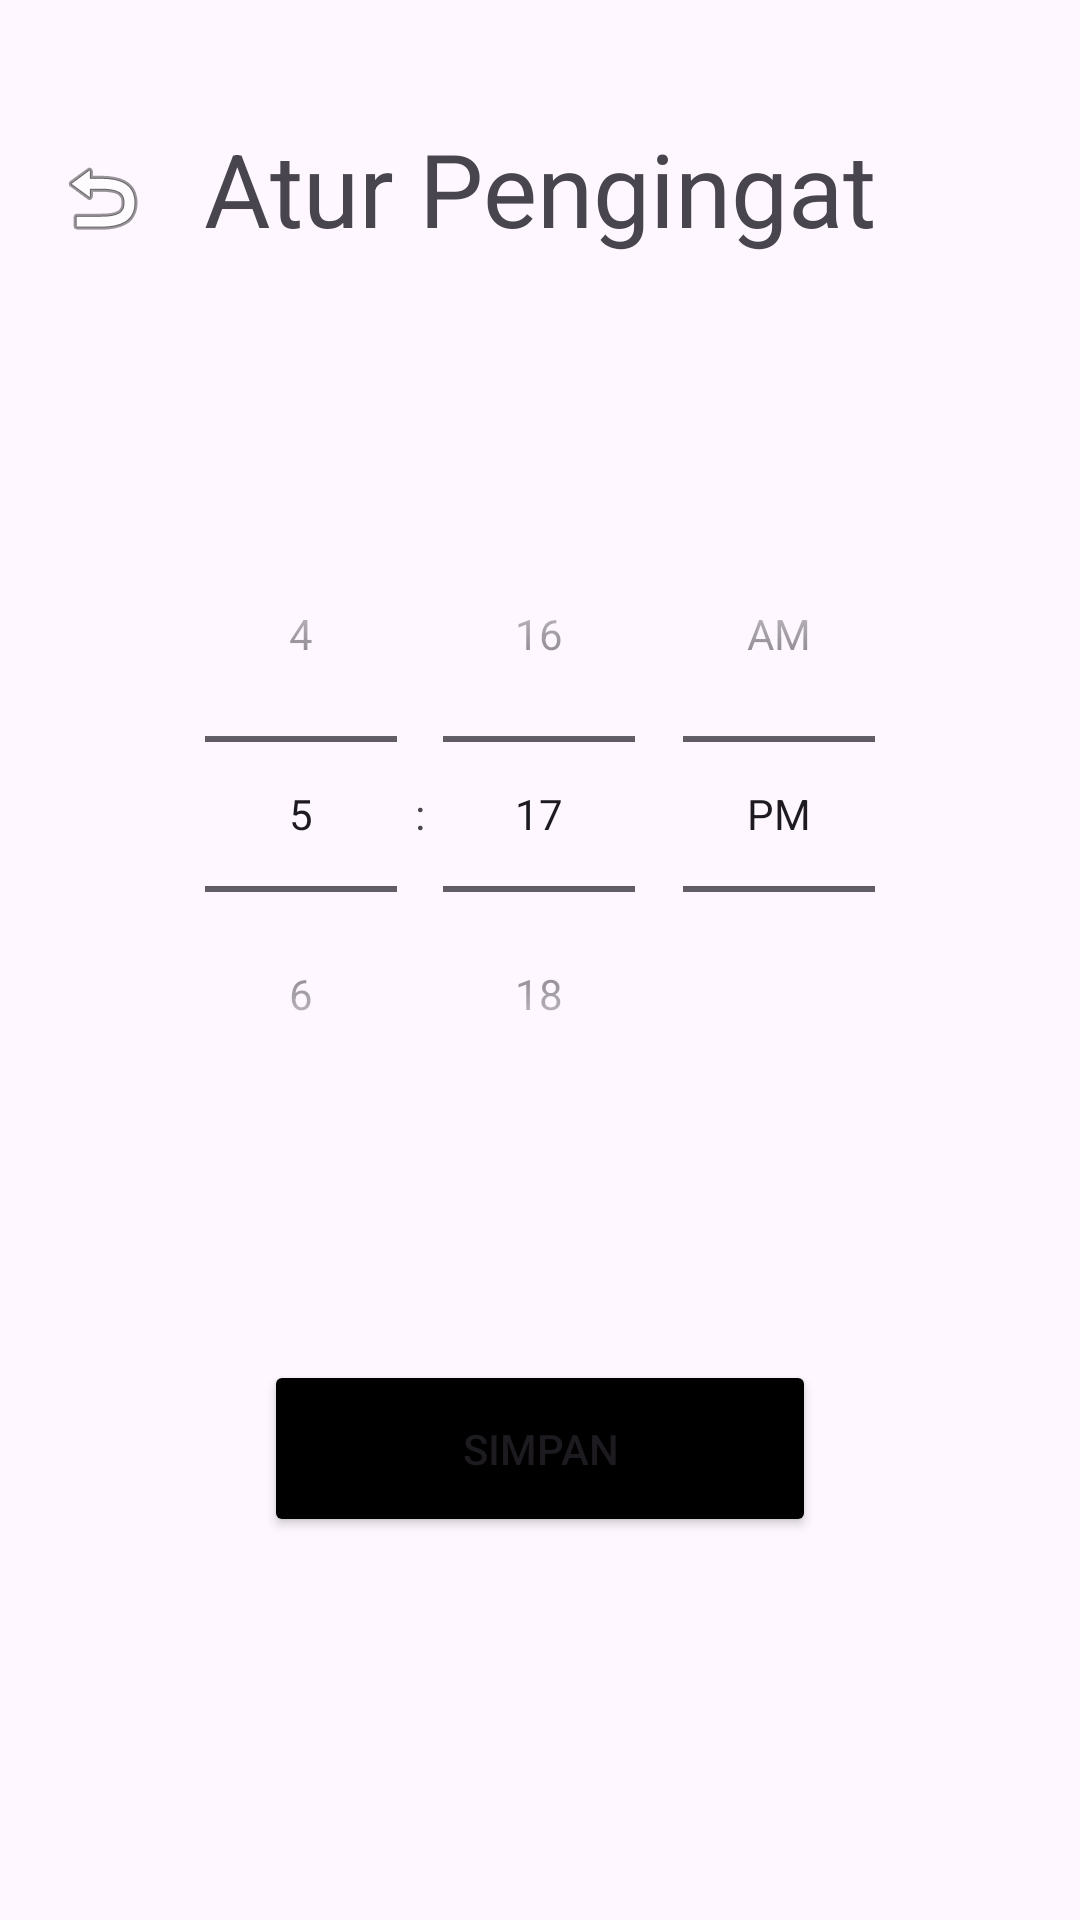

Where to tap for icons on this 1080*1920 app screen, as [x,y]:
revert: [103,198]
